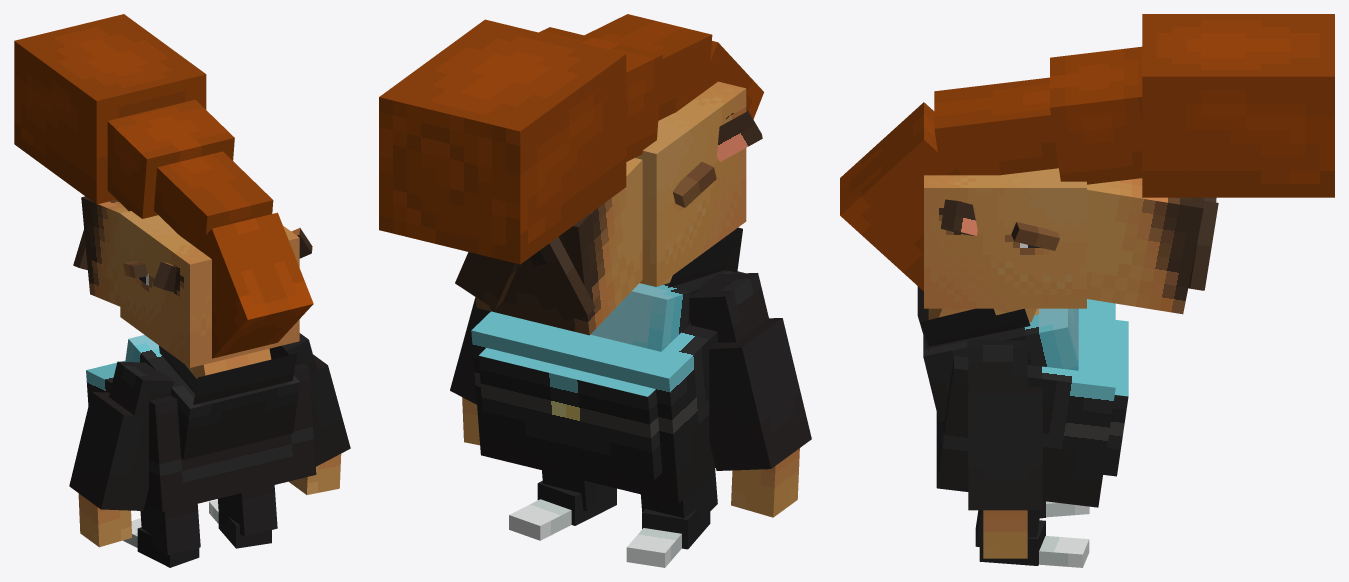
File: Capybara.gltf
The picture shows the model from 3 angles, left to right: view 1: azimuth 30°, elevation 25°; view 2: azimuth 150°, elevation 25°; view 3: azimuth 270°, elevation 25°; orthographic projection. The views are drawn at different scales.
Parts seen in each view (by area): view 1: cube (×5), torso, mainHead, chest, leftArm, leg (×2), rightArm, collar, leftShoulder, leftHand, heel (×2), rightHand (+3 smaller); view 2: cube (×7), torso, belly, mainHead, leftArm, chest, leftShoulder, toe (×2), heel (×2), leftHand, leg (×2), leftEar (+4 smaller); view 3: cube (×6), mainHead, torso, rightArm, chest, rightShoulder, collar (×2), belly, rightHand, toe, rightEar, rightBrow (+2 smaller).
Part boxes in pixels (box(x1,y1,x2,y2)): cube (×5): box(14, 14, 313, 358); torso: box(86, 360, 316, 512); mainHead: box(120, 211, 299, 367); chest: box(125, 335, 299, 459); leftArm: box(69, 392, 148, 510); leg (×2): box(140, 485, 277, 555); rightArm: box(309, 354, 350, 466); collar: box(194, 353, 297, 404); leftShoulder: box(109, 361, 174, 415); leftHand: box(78, 493, 132, 547); heel (×2): box(137, 514, 271, 567); rightHand: box(289, 454, 341, 494); cube (×7): box(379, 14, 763, 335); torso: box(471, 311, 717, 503); belly: box(478, 348, 662, 479); mainHead: box(635, 81, 746, 286); leftArm: box(709, 318, 811, 470); chest: box(591, 270, 744, 351); leftShoulder: box(689, 273, 768, 342); toe (×2): box(509, 499, 681, 567); heel (×2): box(537, 481, 710, 549); leftHand: box(731, 448, 799, 517); leg (×2): box(542, 469, 717, 522); leftEar: box(716, 107, 762, 161); cube (×6): box(840, 14, 1334, 314); mainHead: box(924, 168, 1086, 308); torso: box(936, 299, 1115, 507); rightArm: box(968, 387, 1042, 510); chest: box(923, 308, 1078, 421); rightShoulder: box(968, 339, 1027, 390); collar (×2): box(921, 308, 1030, 346); belly: box(1103, 320, 1128, 476); rightHand: box(983, 510, 1027, 558); toe: box(1039, 536, 1089, 567); rightEar: box(940, 199, 977, 236); rightBrow: box(1011, 222, 1059, 250).
Size of the model in its own units: 1.42 by 2.27 by 2.09.
Materials: 22 (22 with a texture image).
